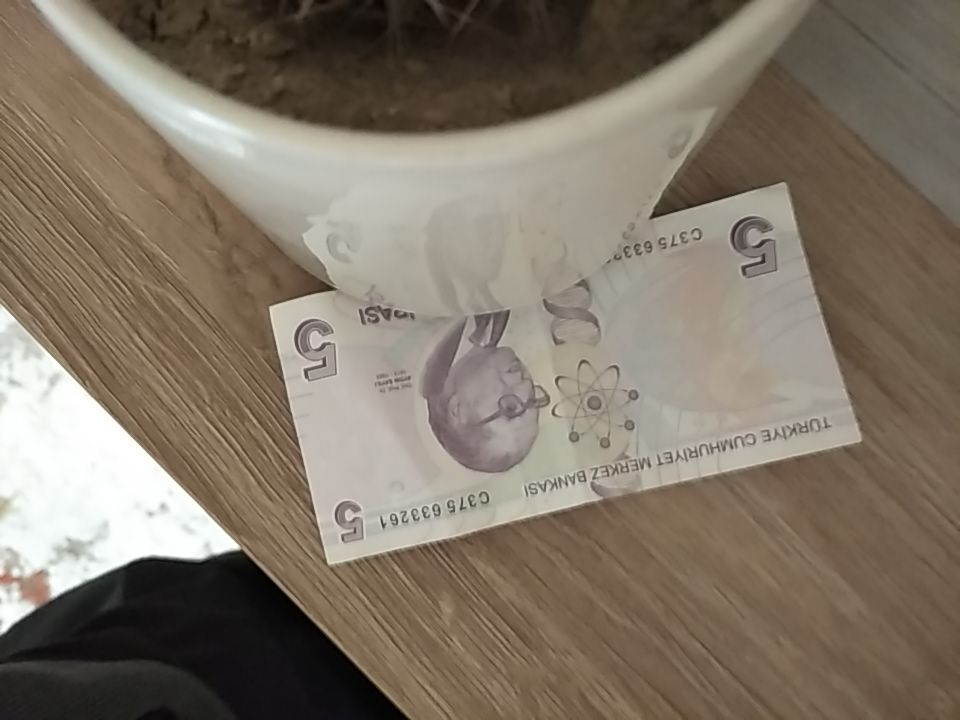5TL: (267, 179, 865, 568)
